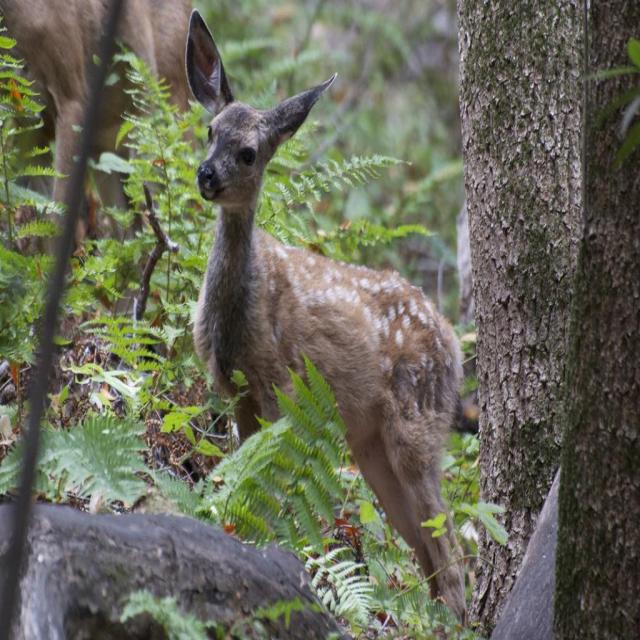Deer: (185, 5, 466, 621)
